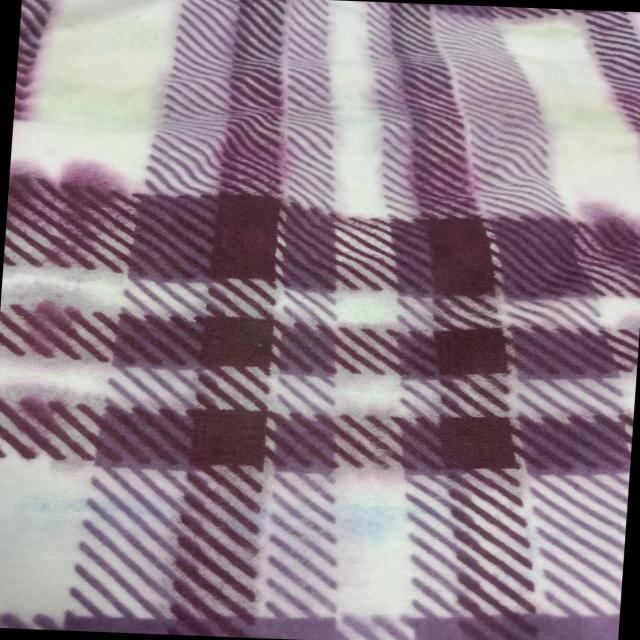baekra: (0, 145, 640, 496)
